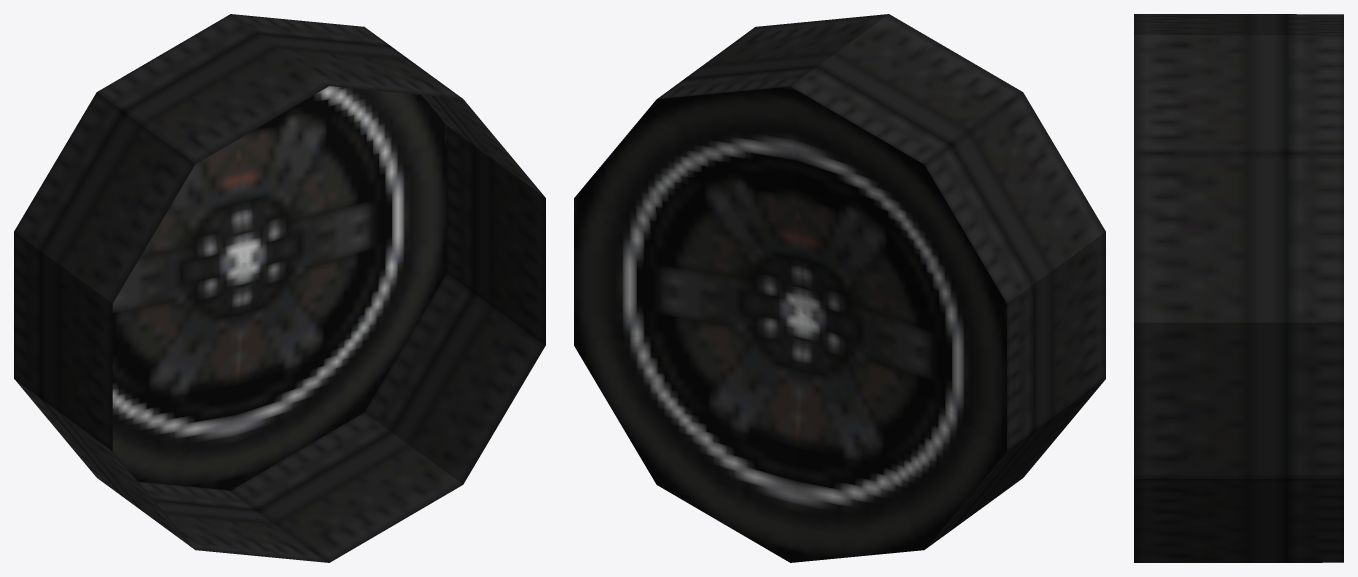
Rendered from bmw_sf.obj.
3 renders of one model, left to right at view 1: azimuth 30°, elevation 25°; view 2: azimuth 150°, elevation 25°; view 3: azimuth 270°, elevation 25°, orthographic. The views are drawn at different scales.
Visible parts, largest first — view 1: mesh_3.006; view 2: mesh_3.006; view 3: mesh_3.006.
Boxes of the visible parts, box(x1,y1,x2,y2) form: mesh_3.006: box(14, 14, 545, 562); mesh_3.006: box(574, 14, 1105, 562); mesh_3.006: box(1134, 14, 1343, 562).
Size of the model in its own units: 0.4882 by 0.5135 by 0.1928.
Materials: 1 (1 with a texture image).
